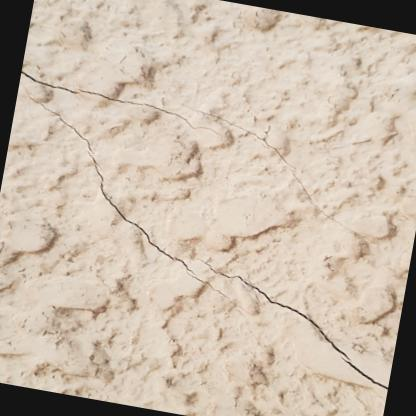crack: (21, 82, 240, 308), (198, 256, 388, 392), (185, 105, 354, 231), (20, 66, 224, 136)
